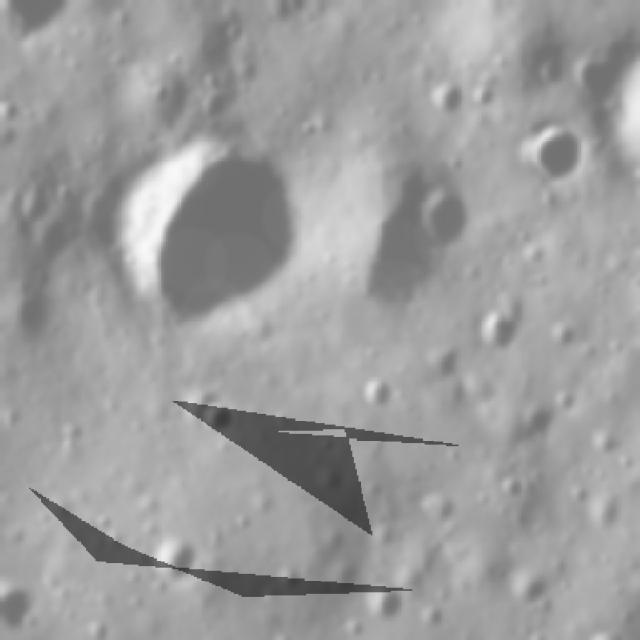crater: (102, 128, 316, 338), (350, 158, 442, 312), (515, 119, 587, 190), (415, 181, 479, 247), (565, 48, 629, 110), (502, 559, 561, 613), (32, 210, 83, 270), (479, 301, 530, 359), (146, 535, 205, 583), (9, 284, 57, 339), (412, 481, 459, 530), (424, 70, 471, 116), (196, 397, 247, 438), (366, 576, 409, 622), (0, 580, 40, 629), (356, 372, 395, 421), (422, 338, 460, 387), (512, 399, 557, 439), (196, 88, 239, 120), (542, 313, 576, 352), (314, 520, 348, 558), (532, 53, 570, 84), (466, 77, 499, 111), (269, 562, 306, 592), (224, 13, 251, 44), (148, 74, 172, 108), (52, 178, 78, 208), (294, 115, 324, 138), (501, 474, 527, 500), (201, 65, 224, 93), (2, 100, 18, 128)
